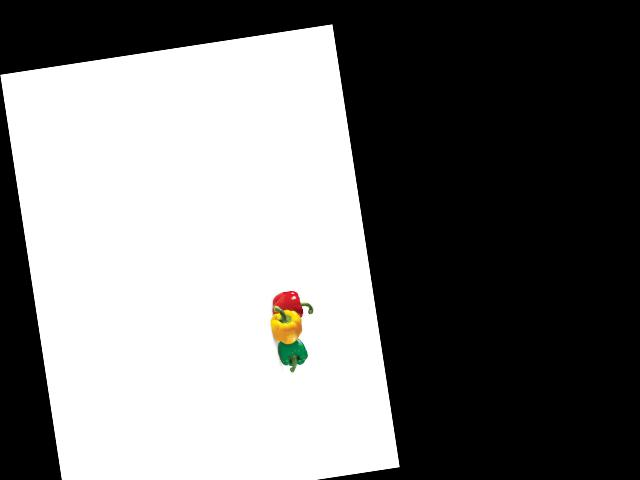bell_pepper: (273, 333, 312, 373)
